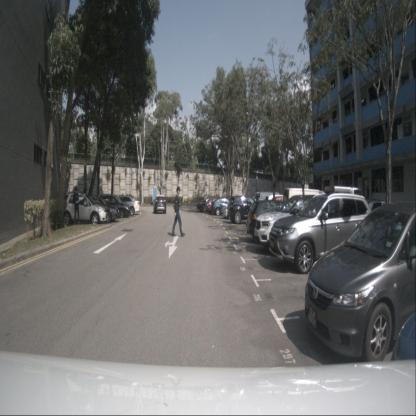human-pedestrian-adult: (172, 186, 186, 237), (72, 186, 82, 224)
vehicle-car: (304, 200, 416, 365), (268, 192, 377, 274), (253, 193, 348, 256), (246, 199, 299, 242), (283, 188, 336, 230), (62, 192, 107, 226), (74, 196, 118, 223), (81, 195, 119, 222), (228, 196, 264, 224), (94, 193, 130, 218), (248, 191, 280, 215), (109, 196, 140, 216), (220, 199, 250, 219), (210, 197, 237, 216), (205, 196, 230, 214), (196, 196, 221, 212), (154, 195, 166, 214)
vehicle-truck: (324, 185, 370, 226)
